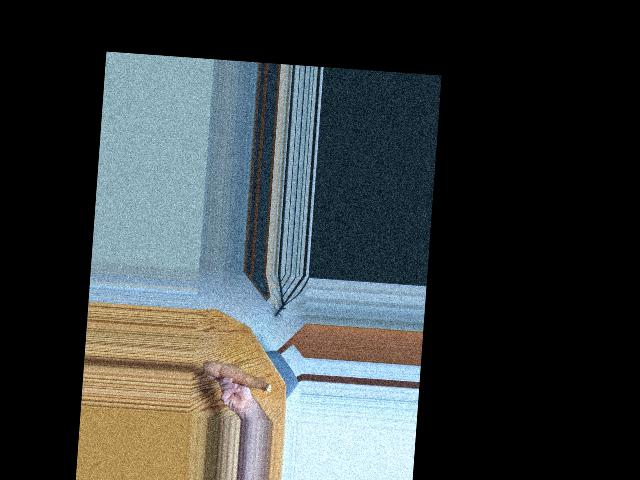sweet_potato: (200, 359, 273, 394)
